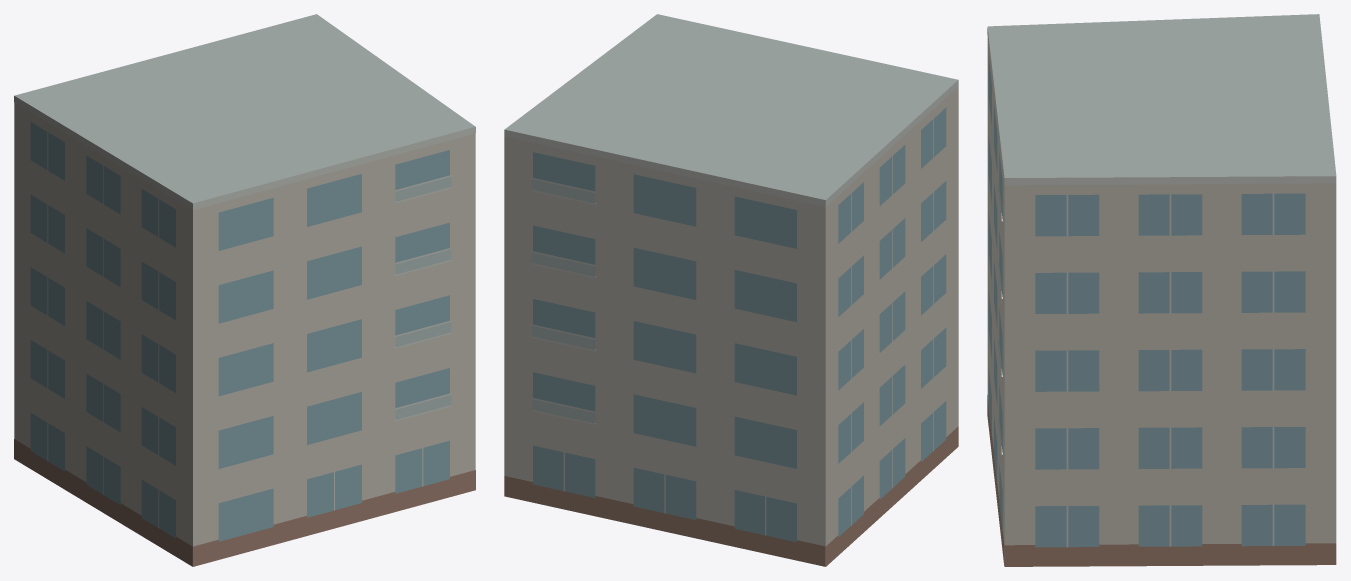
Rendered from survey-upis-32747105.glb.
3 views of the same model, side by side, from view 1: azimuth 30°, elevation 25°; view 2: azimuth 150°, elevation 25°; view 3: azimuth 270°, elevation 25° (orthographic). The views are drawn at different scales.
Parts seen in each view (by area): view 1: survey-upis-32747105.tmp; view 2: survey-upis-32747105.tmp; view 3: survey-upis-32747105.tmp.
Boxes of the visible parts, left/top/right/bottom form: survey-upis-32747105.tmp: left=14, top=14, right=475, bottom=566; survey-upis-32747105.tmp: left=504, top=14, right=958, bottom=566; survey-upis-32747105.tmp: left=987, top=14, right=1336, bottom=566.
Bounding box in the file's own units: 11.96 × 13.2 × 10.75.
